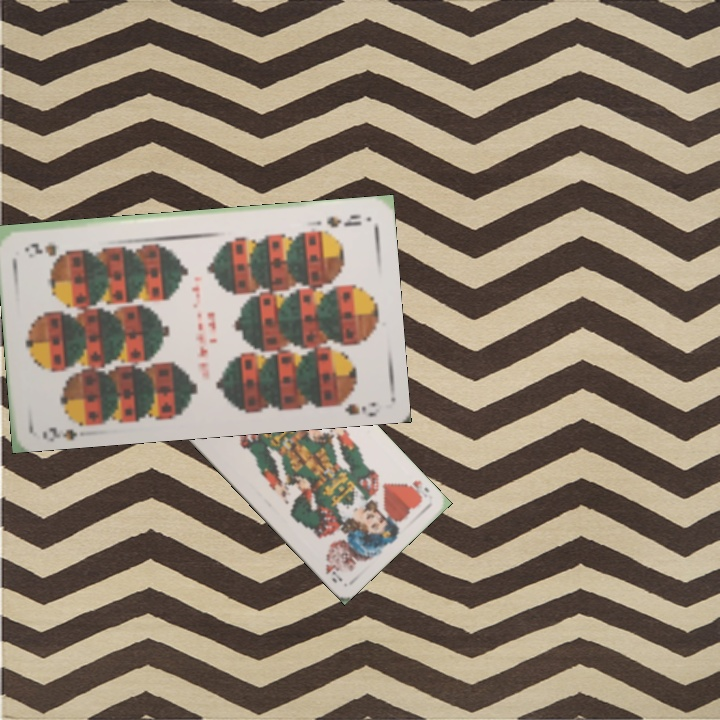HO: (401, 476, 432, 504)
S9: (38, 412, 94, 442), (323, 210, 364, 230)
